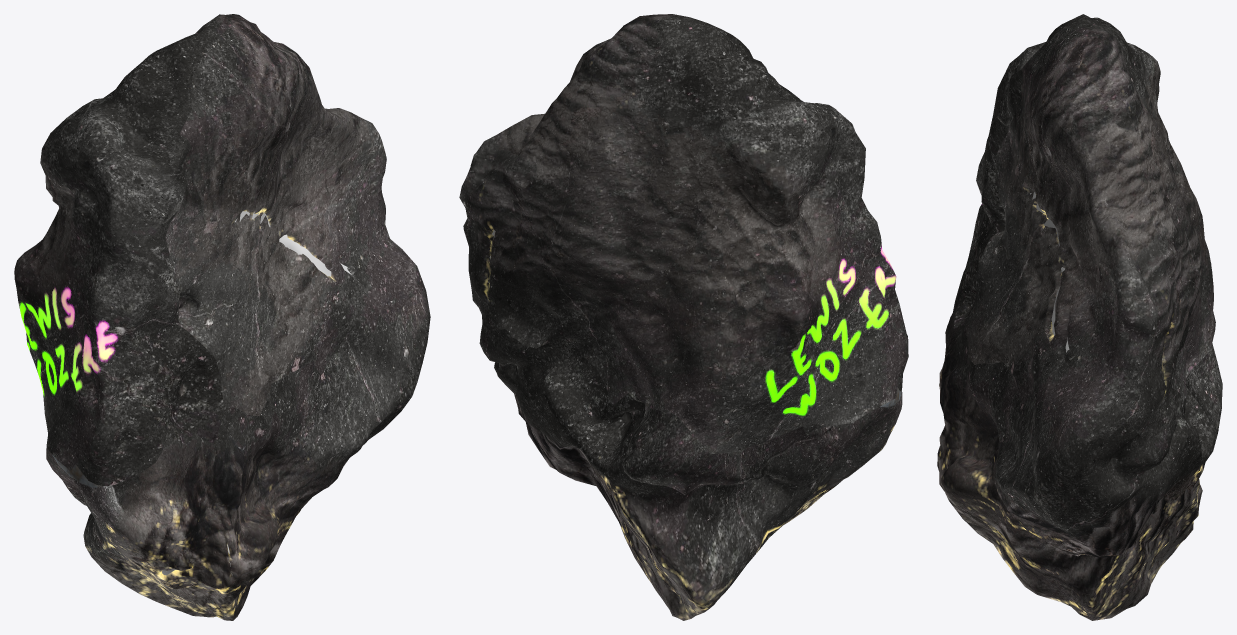
The picture shows the model from 3 angles, left to right: view 1: azimuth 30°, elevation 25°; view 2: azimuth 150°, elevation 25°; view 3: azimuth 270°, elevation 25°; orthographic projection.
Visible parts, largest first — view 1: Model_LP2A, Model_LP2B, Model_LP; view 2: Model_LP2B, Model_LP2A; view 3: Model_LP2A, Model_LP2B.
Part boxes in pixels (box(x1,y1,x2,y2)): Model_LP2A: box(46, 80, 430, 620); Model_LP2B: box(14, 14, 314, 434); Model_LP: box(162, 210, 351, 575); Model_LP2B: box(503, 14, 880, 494); Model_LP2A: box(459, 113, 908, 620); Model_LP2A: box(937, 107, 1217, 620); Model_LP2B: box(991, 14, 1222, 434).
Size of the model in its own units: 1.21 by 1.75 by 0.759.
3 materials, 2 textured.
